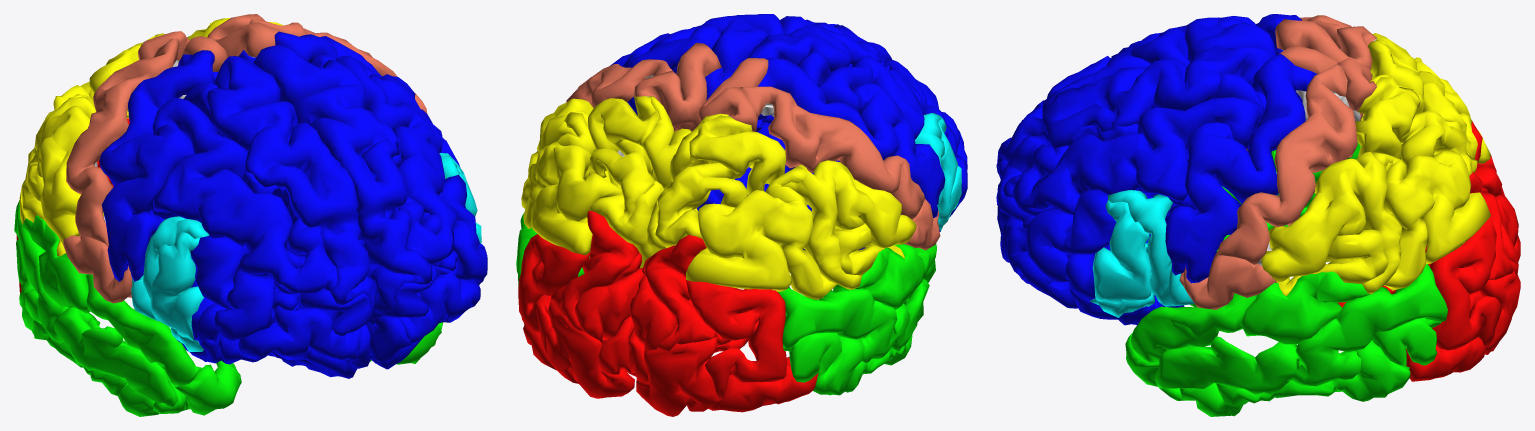
File: Cerebro Fianl (Particionado) (1).fbx
3 renders of one model, left to right at view 1: azimuth 30°, elevation 25°; view 2: azimuth 150°, elevation 25°; view 3: azimuth 270°, elevation 25°, orthographic. The views are drawn at different scales.
Parts seen in each view (by area): view 1: Frontal Lobe R, Frontal Lobe L, Temporal Lobe R, Parietal Lobe R, Parietal Lobe L, Tempora Lobe L; view 2: Parietal Lobe R, Parietal Lobe L, Occipital Lobe L, Frontal Lobe R, Occipital Lobe R, Temporal Lobe R, Frontal Lobe L, Tempora Lobe L; view 3: Frontal Lobe L, Parietal Lobe L, Tempora Lobe L, Occipital Lobe R, Parietal Lobe R, Frontal Lobe R, Occipital Lobe L.
Part boxes in pixels (bbox=[...]): Frontal Lobe R: bbox=[99, 50, 376, 378]; Frontal Lobe L: bbox=[238, 31, 487, 369]; Temporal Lobe R: bbox=[14, 200, 241, 416]; Parietal Lobe R: bbox=[19, 31, 228, 303]; Parietal Lobe L: bbox=[187, 14, 427, 113]; Tempora Lobe L: bbox=[370, 322, 443, 364]; Parietal Lobe R: bbox=[647, 58, 940, 299]; Parietal Lobe L: bbox=[521, 42, 721, 268]; Occipital Lobe L: bbox=[628, 235, 818, 416]; Frontal Lobe R: bbox=[747, 22, 967, 250]; Occipital Lobe R: bbox=[518, 210, 644, 398]; Temporal Lobe R: bbox=[777, 243, 936, 395]; Frontal Lobe L: bbox=[610, 14, 839, 211]; Tempora Lobe L: bbox=[516, 213, 589, 286]; Frontal Lobe L: bbox=[996, 46, 1317, 325]; Parietal Lobe L: bbox=[1179, 46, 1490, 309]; Tempora Lobe L: bbox=[1125, 264, 1447, 416]; Occipital Lobe R: bbox=[1338, 171, 1520, 381]; Parietal Lobe R: bbox=[1246, 15, 1490, 163]; Frontal Lobe R: bbox=[996, 14, 1301, 243]; Occipital Lobe L: bbox=[1471, 121, 1520, 261].
Bounding box in the file's own units: 56.28 × 45.66 × 68.42.
